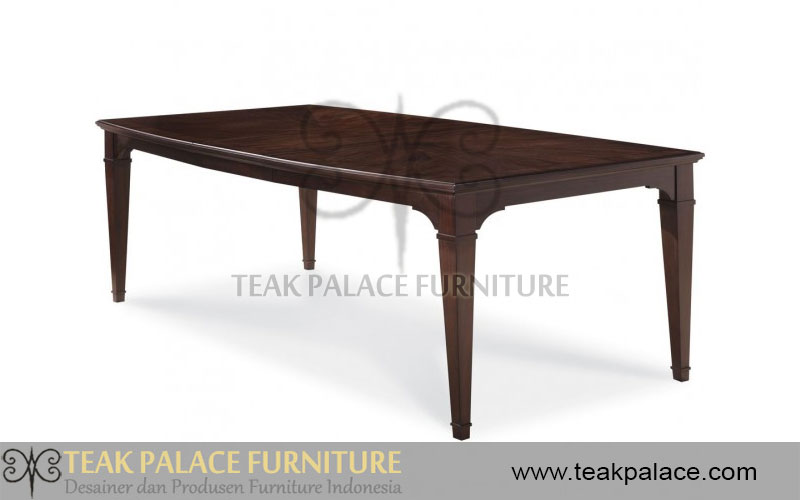Carving Table: (75, 91, 700, 431)
